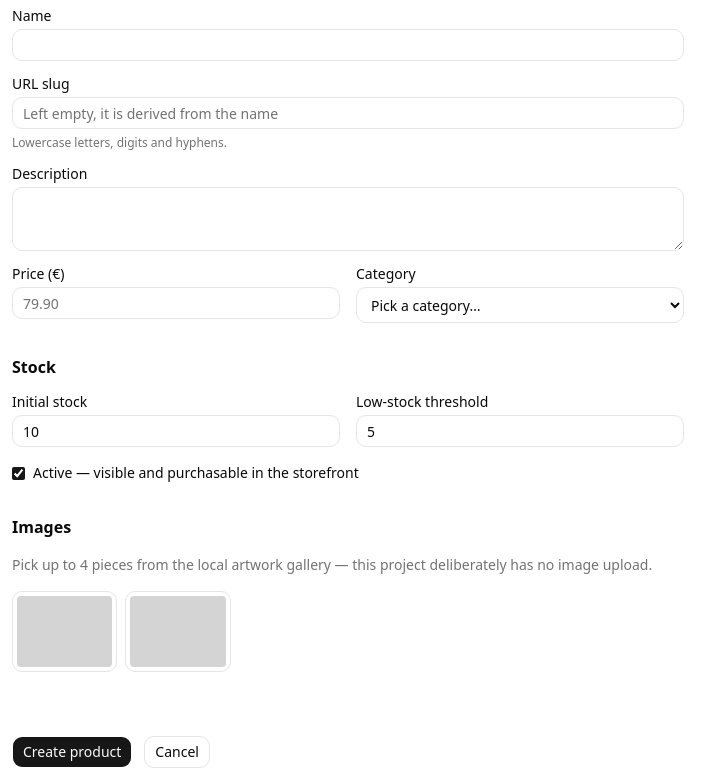
Test: ProductForm › shows field-level validation messages on an empty submit
This screenshot has width=704, height=768.
(page scrolled)
Click the button "Create product". click: point(72, 752)
box: [12, 736, 132, 767]
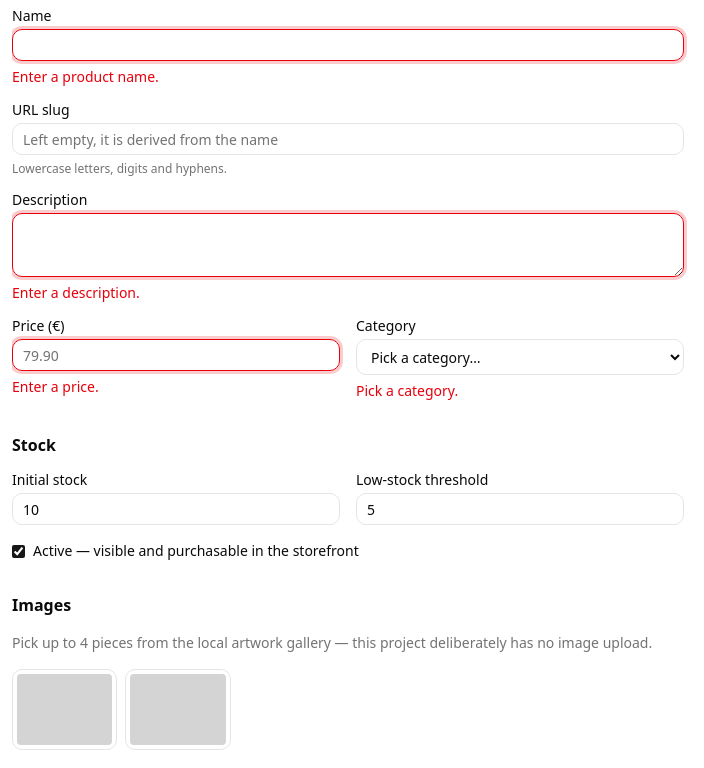
expect the text "Enter a product name." is shown: met, box [12, 67, 159, 86]
expect the text "Enter a description." is shown: met, box [12, 283, 140, 302]
expect the text "Enter a price." is shown: met, box [12, 377, 99, 396]
